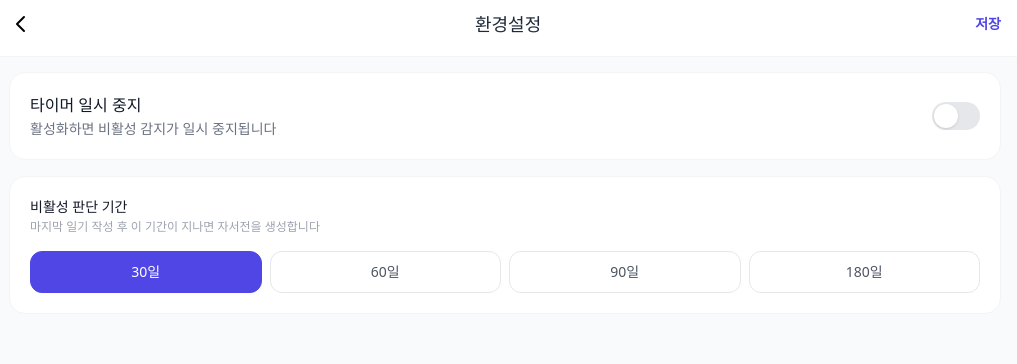
it: Settings Preferences Flow - Integration Test › Saving state › should disable toggle during saving
This screenshot has width=1017, height=364.
Click the checkbox with test id "timer-pause-toggle". click: (956, 116)
box: [932,102,980,130]
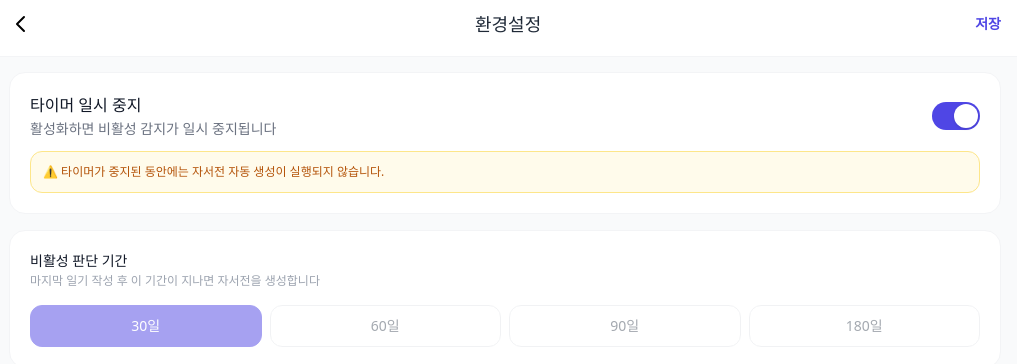
Now the checkbox with test id "timer-pause-toggle" is disabled, box [932,102,980,130]
